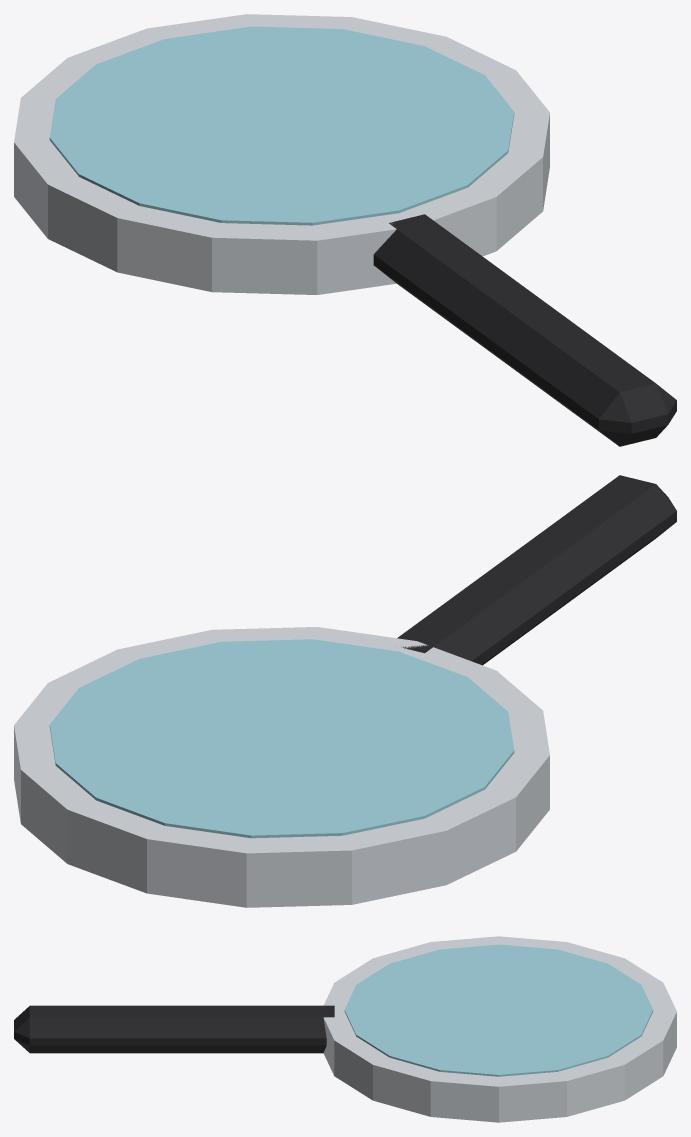
File: relic_magnifier.fbx
3 views of the same model, one above another, from view 1: azimuth 30°, elevation 25°; view 2: azimuth 150°, elevation 25°; view 3: azimuth 270°, elevation 25° (orthographic). The views are drawn at different scales.
Parts seen in each view (by area): view 1: Prop; view 2: Prop; view 3: Prop.
Boxes of the visible parts, <box> form: Prop: <box>14,14,676,446</box>; Prop: <box>14,475,676,907</box>; Prop: <box>14,936,676,1122</box>.
Bounding box in the file's own units: 0.18 × 0.335 × 0.022.
